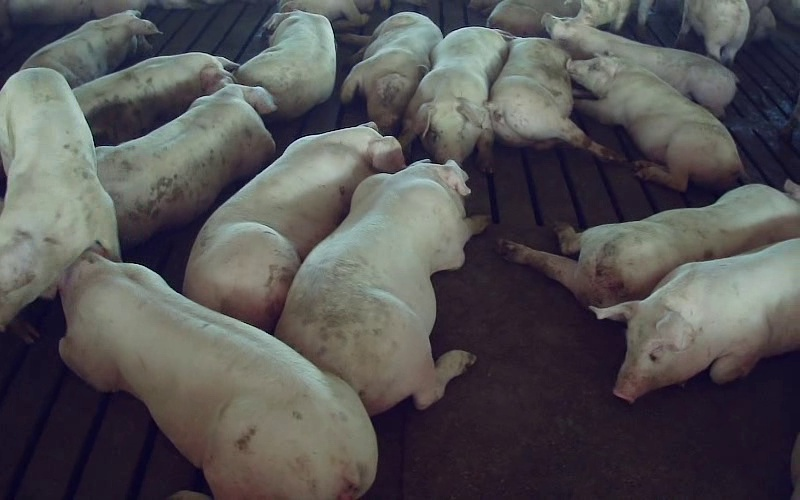pig: (59, 251, 376, 499), (276, 161, 488, 414), (184, 123, 404, 329), (499, 180, 799, 306), (592, 239, 799, 401), (96, 67, 274, 245), (0, 68, 119, 329), (567, 56, 742, 191), (542, 13, 736, 116), (488, 38, 621, 160), (399, 27, 508, 172), (73, 53, 219, 144), (339, 12, 442, 134), (235, 11, 335, 119), (21, 10, 159, 87), (676, 0, 749, 65)
